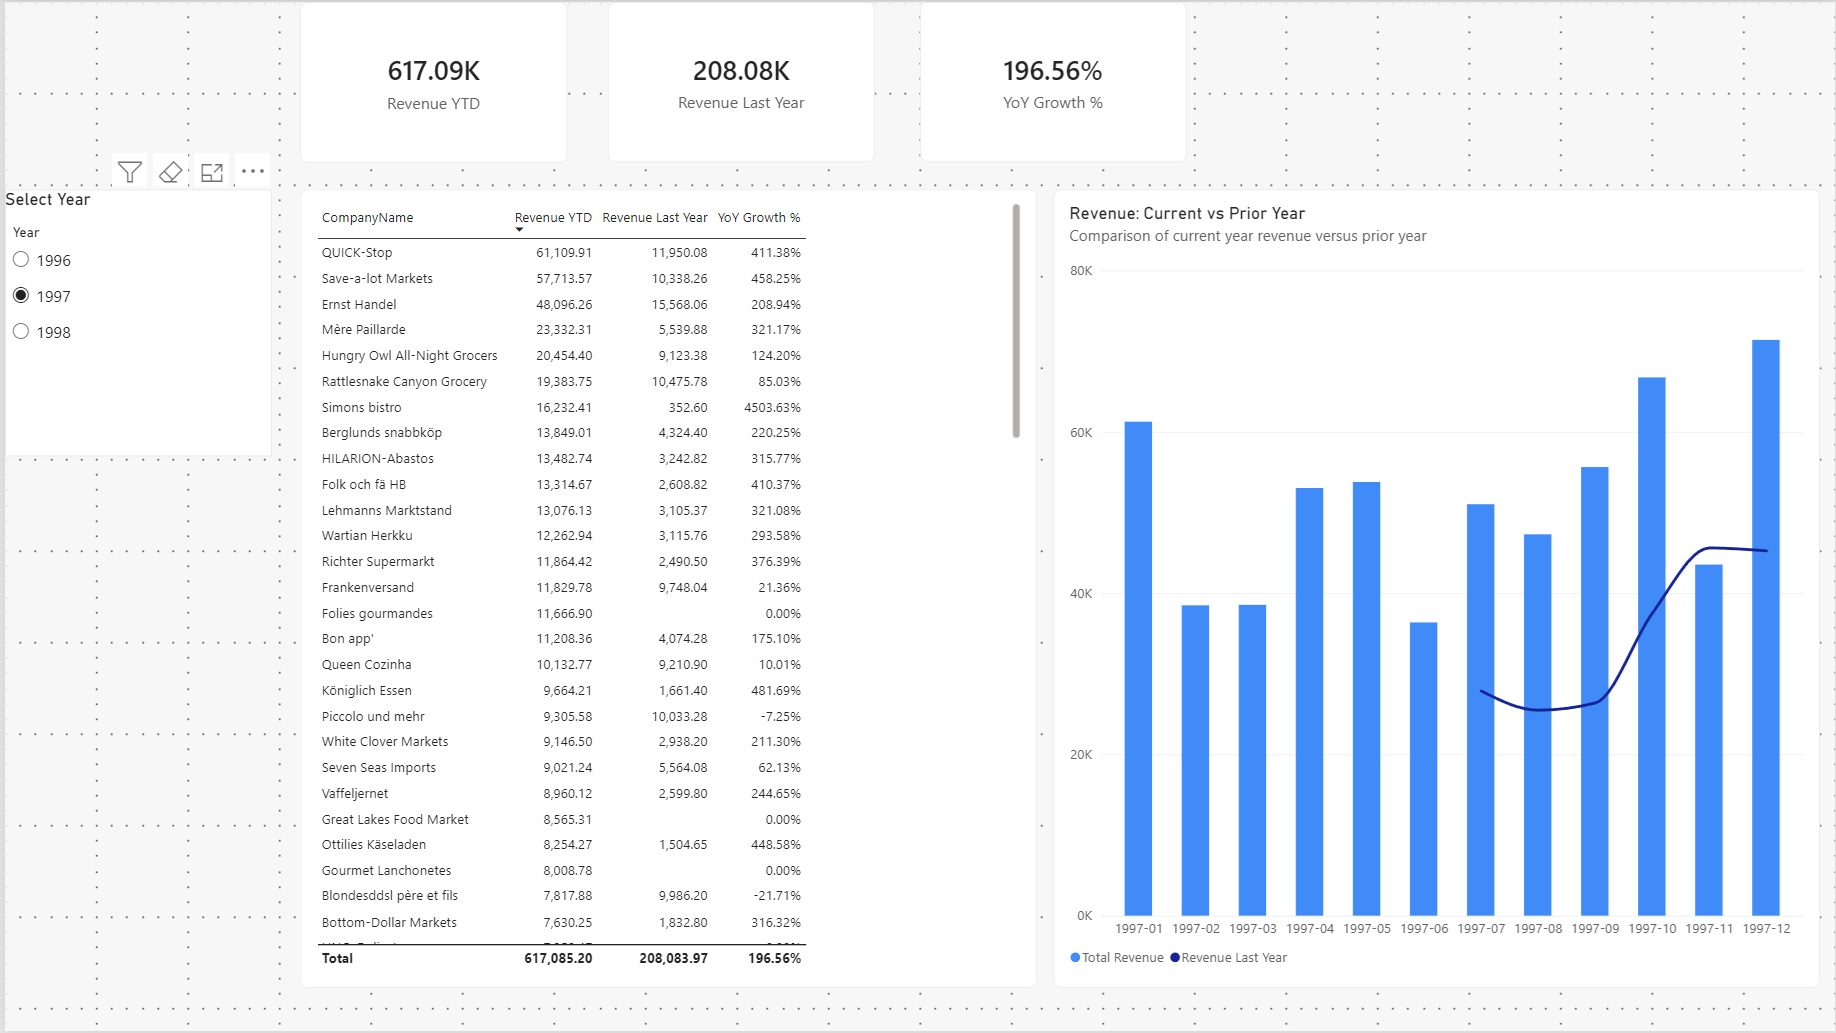

What the dashboard file says about the page in this screenshot:
{"tool":"powerbi","page":{"name":"Sales Analysis","canvas":[1920,1080],"ordinal":3},"visuals":[{"type":"slicer","title":"Select Year","fields":{"Values":["Date.Year"]},"box":[0,196.7,280,280],"z":0},{"type":"card","fields":{"Values":["OrderDetails.Revenue YTD"]},"box":[310,50.4,280.1,146.4],"z":1},{"type":"card","fields":{"Values":["OrderDetails.Revenue Last Year"]},"box":[632.7,50.4,280.1,146.4],"z":2},{"type":"card","fields":{"Values":["OrderDetails.YoY Growth %"]},"box":[960,50.4,280.1,146.4],"z":3},{"type":"tableEx","fields":{"Values":["Customers.CompanyName","OrderDetails.Revenue YTD","OrderDetails.Revenue Last Year","OrderDetails.YoY Growth %"]},"box":[310,196.7,772.7,837.2],"z":4},{"type":"lineClusteredColumnComboChart","title":"Revenue: Current vs Prior Year","fields":{"Category":["Date.Year-Month"],"Y":["OrderDetails.Total Revenue"],"Y2":["OrderDetails.Revenue Last Year"]},"box":[1100.1,196.7,804.2,837.2],"z":5},{"type":"pageNavigator","box":[0,0,1909,50.4],"z":6}]}

Visuals, with their boxes on the page's 1920x1080 design canvas (x1, y1, x2, y2). These are canvas units, not pixel positions in the 1836x1033 screenshot, which may show the page scaled, cropped or inside an application window:
"Select Year" slicer: l=0, t=197, r=280, b=477
card - OrderDetails.Revenue YTD: l=310, t=50, r=590, b=197
card - OrderDetails.Revenue Last Year: l=633, t=50, r=913, b=197
card - OrderDetails.YoY Growth %: l=960, t=50, r=1240, b=197
tableEx - Customers.CompanyName x OrderDetails.Revenue YTD: l=310, t=197, r=1083, b=1034
"Revenue: Current vs Prior Year" lineClusteredColumnComboChart: l=1100, t=197, r=1904, b=1034
pageNavigator: l=0, t=0, r=1909, b=50
